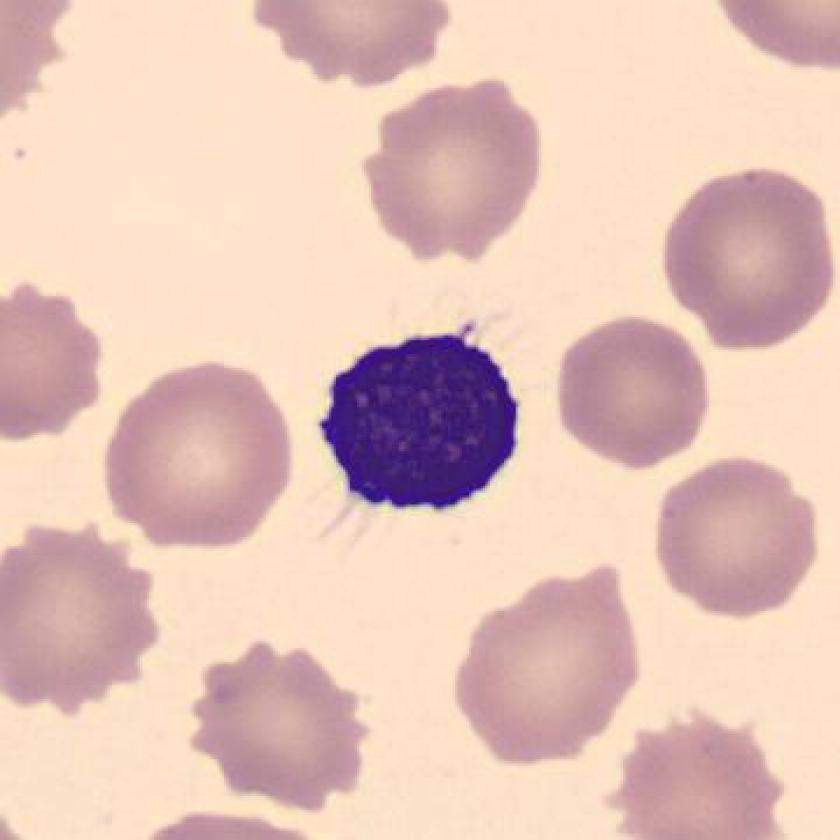lymphocyte: (302, 309, 535, 538)
